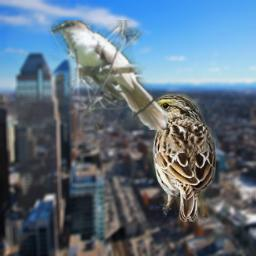Cuckoo: (49, 20, 168, 130)
Sparrow: (140, 93, 216, 223)
